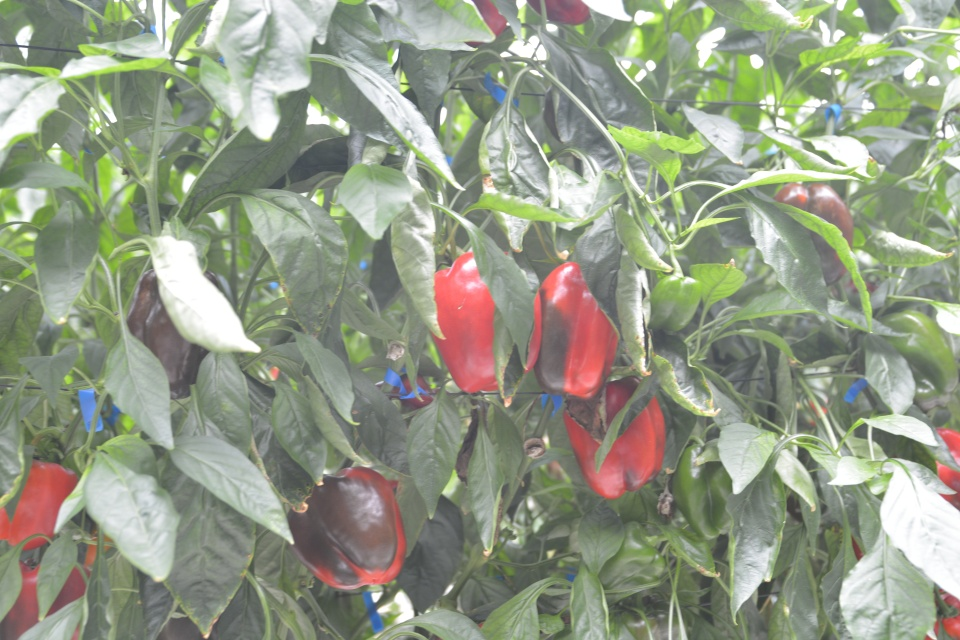fruit: (431, 249, 544, 396), (285, 464, 408, 591), (560, 372, 668, 501), (126, 265, 225, 400), (533, 259, 619, 401), (772, 180, 856, 284), (876, 309, 960, 413), (0, 557, 92, 640), (0, 456, 83, 545), (669, 440, 735, 543), (597, 518, 665, 604), (933, 426, 960, 512), (464, 0, 508, 49), (921, 588, 959, 640), (526, 0, 595, 28)
immature: (648, 270, 702, 334)
pedicle: (936, 603, 956, 618)
